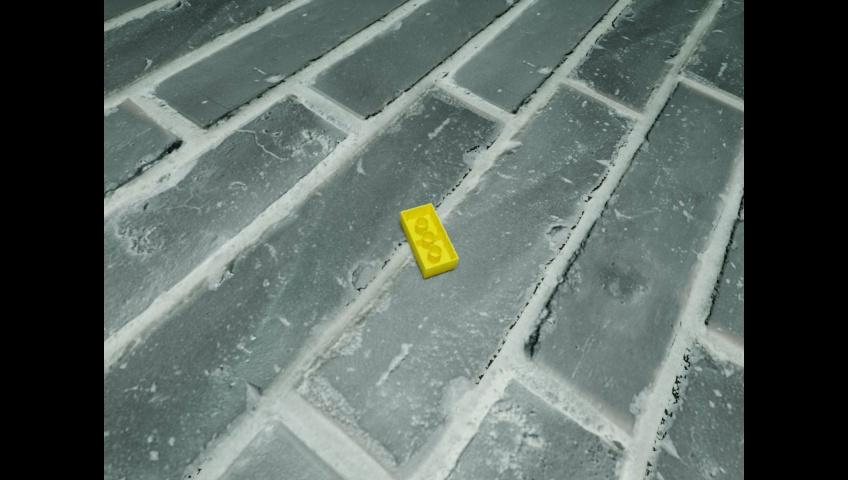4x2_yellow: (400, 203, 457, 277)
